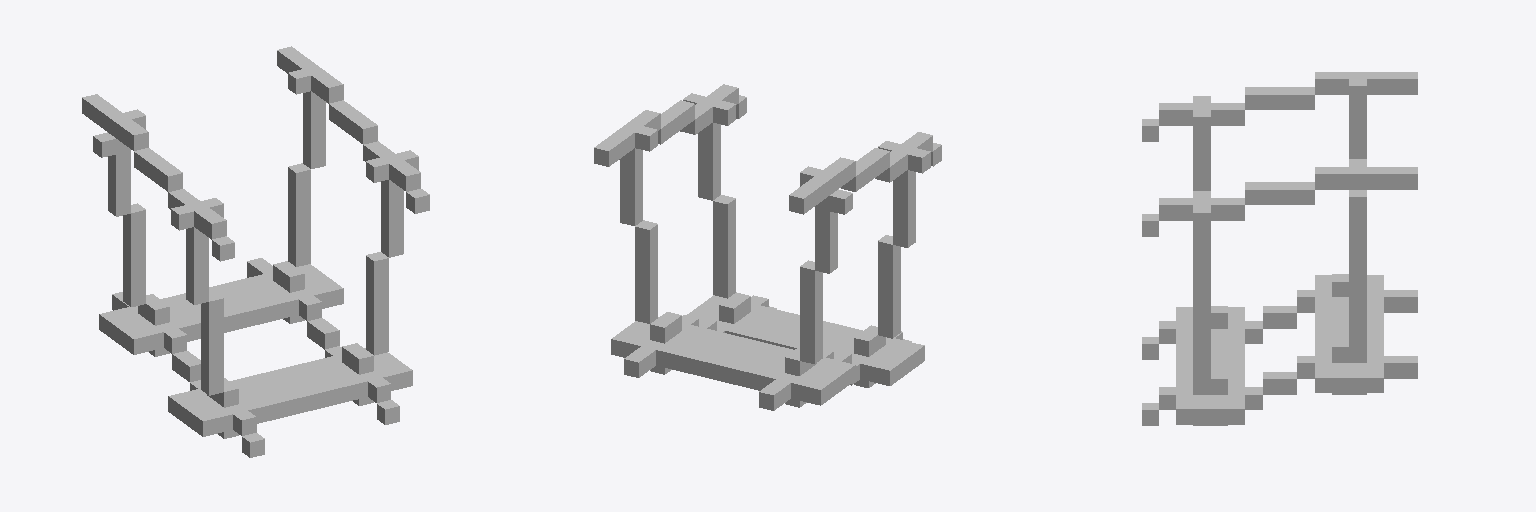
The model's file is rope_bridges_planks_upflat_l4.obj.
3 views of the same model, side by side, from view 1: azimuth 30°, elevation 25°; view 2: azimuth 150°, elevation 25°; view 3: azimuth 270°, elevation 25° (orthographic).
Visible parts, largest first — view 1: node_0_1_0.001; view 2: node_0_1_0.001; view 3: node_0_1_0.001.
Boxes of the visible parts, <box> form: node_0_1_0.001: <box>82,46,429,457</box>; node_0_1_0.001: <box>594,84,941,410</box>; node_0_1_0.001: <box>1142,72,1417,425</box>.
Size of the model in its own units: 1 by 1.06 by 1.